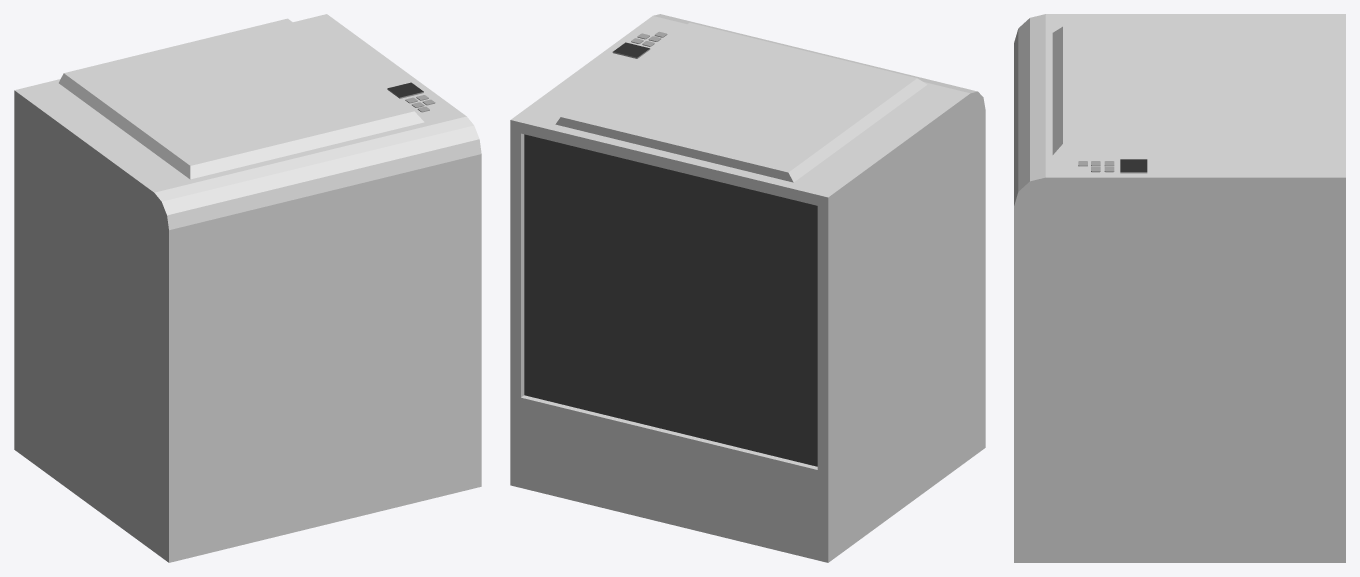
The model's file is dryer.glb.
The picture shows the model from 3 angles, left to right: view 1: azimuth 30°, elevation 25°; view 2: azimuth 150°, elevation 25°; view 3: azimuth 270°, elevation 25°; orthographic projection. The views are drawn at different scales.
Visible parts, largest first — view 1: Dryer Machine, Dryer Machine Ac; view 2: Dryer Machine, Dryer Machine Ac; view 3: Dryer Machine, Dryer Machine Ac.
Boxes of the visible parts, x1=… form: Dryer Machine: x1=14, y1=14, x2=481, y2=562; Dryer Machine Ac: x1=59, y1=18, x2=424, y2=179; Dryer Machine: x1=510, y1=14, x2=985, y2=562; Dryer Machine Ac: x1=555, y1=22, x2=927, y2=182; Dryer Machine: x1=1014, y1=14, x2=1345, y2=562; Dryer Machine Ac: x1=1052, y1=26, x2=1334, y2=155.
Size of the model in its own units: 0.8636 by 0.9755 by 0.7403.
2 materials, 2 textured.
